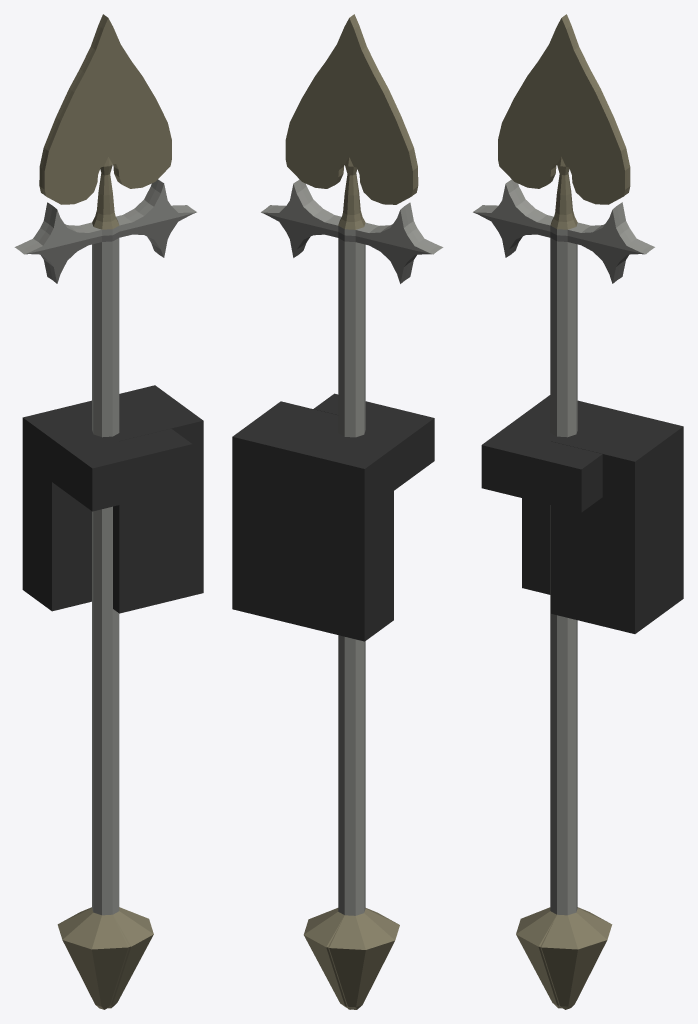
The model's file is EnemyGroundHandL.fbx.
3 views of the same model, side by side, from view 1: azimuth 30°, elevation 25°; view 2: azimuth 150°, elevation 25°; view 3: azimuth 330°, elevation 25° (orthographic).
Visible parts, largest first — view 1: polySurface20, polySurface161, polySurface157, polySurface159, polySurface160; view 2: polySurface20, polySurface161, polySurface157, polySurface159, polySurface160; view 3: polySurface20, polySurface161, polySurface157, polySurface159, polySurface160.
Boxes of the visible parts, x1,y1,x2,y2 form: polySurface20: [22, 385, 203, 613]; polySurface161: [14, 179, 196, 915]; polySurface157: [39, 14, 171, 229]; polySurface159: [57, 907, 153, 1009]; polySurface160: [26, 212, 195, 283]; polySurface20: [232, 393, 434, 641]; polySurface161: [261, 179, 443, 915]; polySurface157: [285, 14, 418, 229]; polySurface159: [303, 908, 399, 1009]; polySurface160: [265, 213, 428, 283]; polySurface20: [481, 395, 683, 633]; polySurface161: [473, 179, 654, 915]; polySurface157: [498, 14, 630, 229]; polySurface159: [516, 907, 612, 1009]; polySurface160: [473, 212, 643, 283].
Bounding box in the file's own units: 0.00435 × 0.0238 × 0.00303.
Materials: 4 (4 with a texture image).
